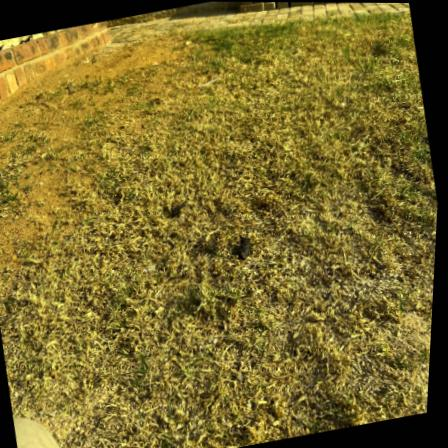dog-poop: (230, 227, 266, 260), (167, 191, 198, 221)
